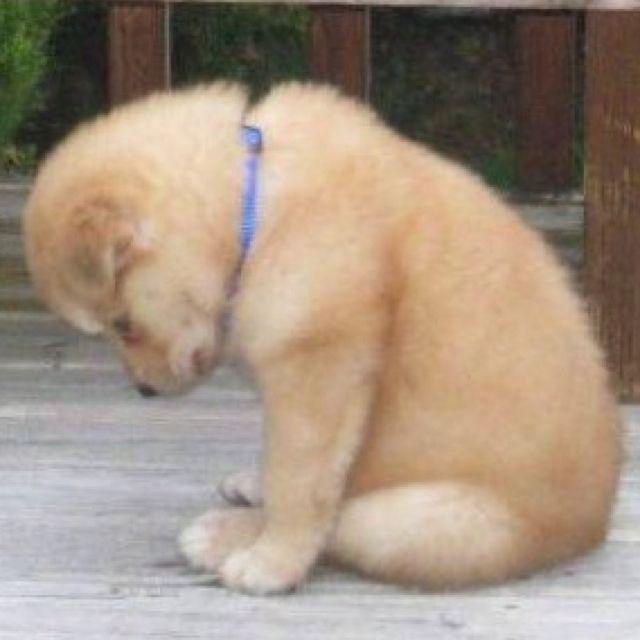puppy-dog: (15, 70, 624, 593)
